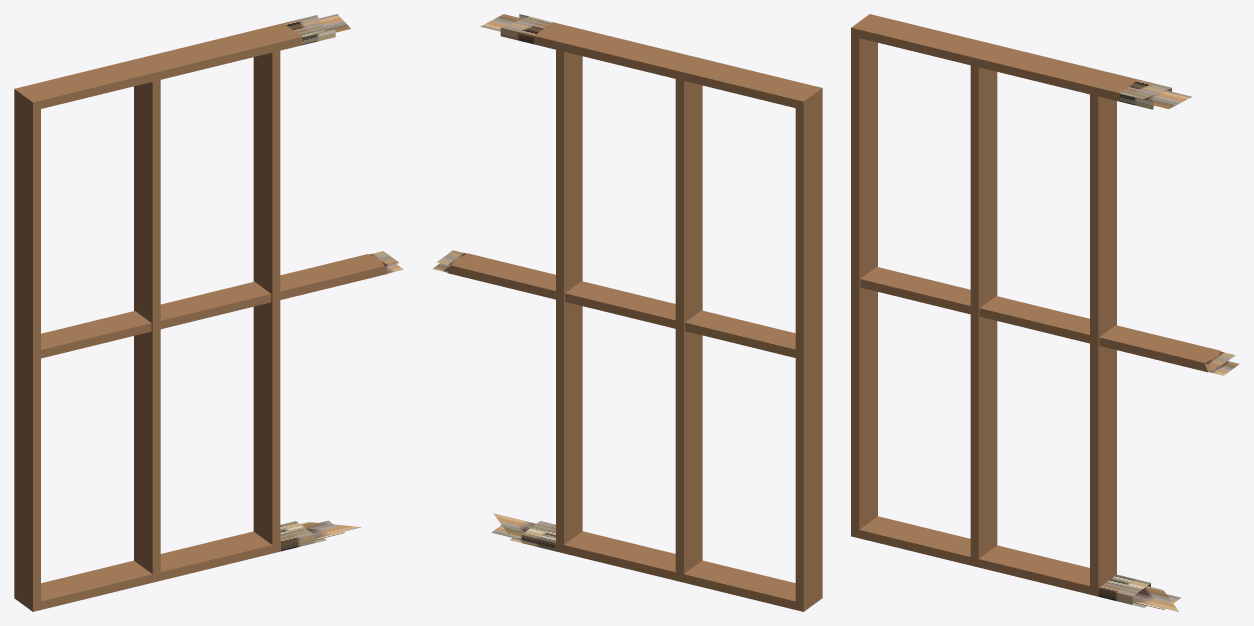
File: DBK_WoodFrame_Side_C.fbx
3 renders of one model, left to right at view 1: azimuth 30°, elevation 25°; view 2: azimuth 150°, elevation 25°; view 3: azimuth 330°, elevation 25°, orthographic.
Visible parts, largest first — view 1: DBK_WoodFrame_Side_C; view 2: DBK_WoodFrame_Side_C; view 3: DBK_WoodFrame_Side_C.
Boxes of the visible parts, x1,y1,x2,y2 form: DBK_WoodFrame_Side_C: (14,14,403,611); DBK_WoodFrame_Side_C: (433,14,822,611); DBK_WoodFrame_Side_C: (851,14,1239,611).
Size of the model in its own units: 229 by 300 by 20.
